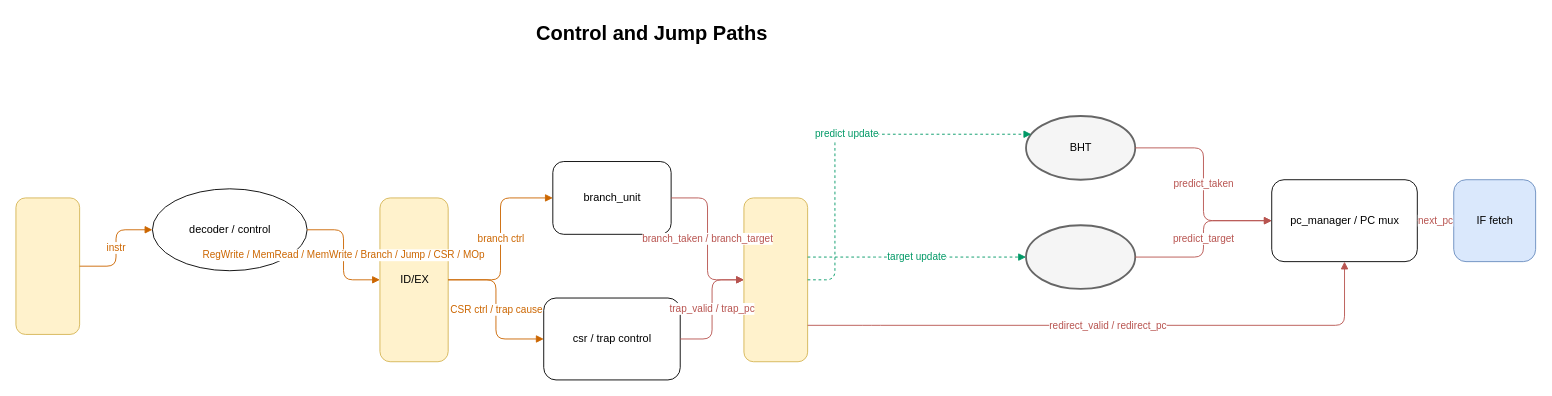
This 1552x396 diagram has some shape labels left out. The centre of each missing label's shape, as x and y in pixels:
"BTB" goes at (x=1080, y=256).
"EX/MEM" goes at (x=775, y=279).
"IF/ID" goes at (x=47, y=265).
